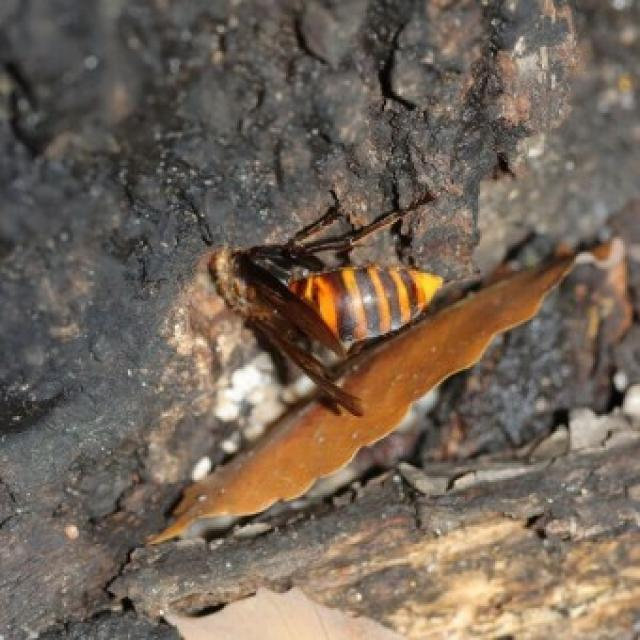Wasp: (213, 188, 455, 424)
